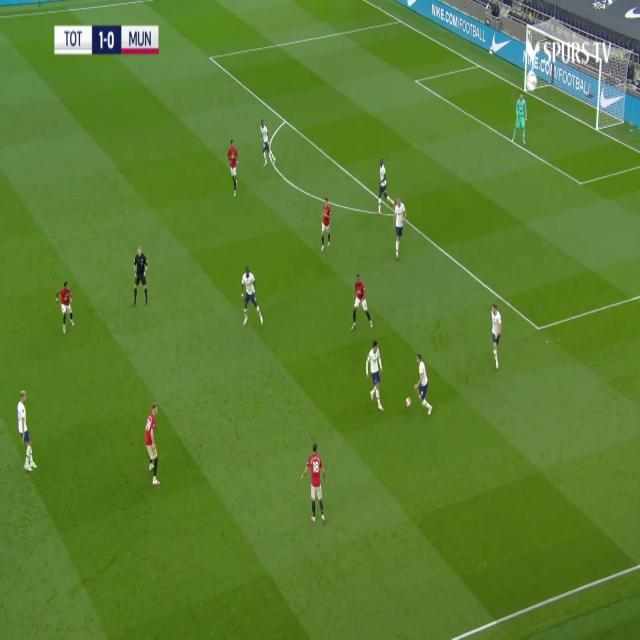Ball: (406, 398, 412, 408)
GoalKeeper: (512, 96, 529, 145)
TEAM 1: (15, 384, 38, 474), (239, 262, 263, 327), (364, 341, 384, 414), (414, 354, 434, 414), (489, 302, 505, 374), (375, 157, 393, 217), (394, 196, 408, 260), (260, 121, 276, 169)
TEAM 2: (300, 443, 326, 527), (352, 271, 375, 333), (146, 405, 163, 487), (56, 282, 75, 332), (226, 139, 239, 196), (320, 198, 332, 254)
